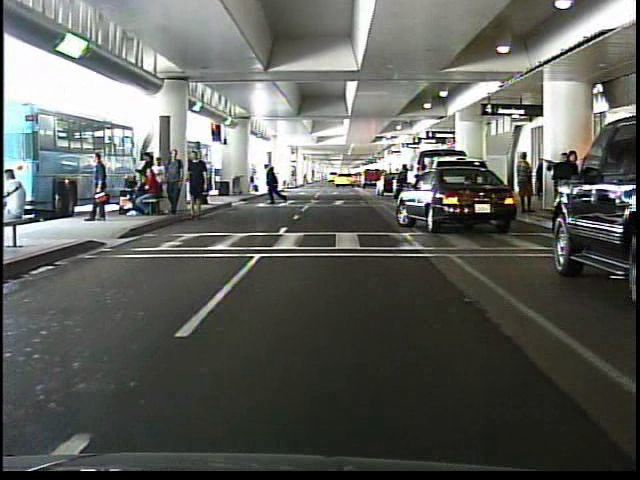person: (0, 163, 33, 250), (84, 146, 115, 231), (517, 150, 535, 215), (267, 161, 291, 207)
